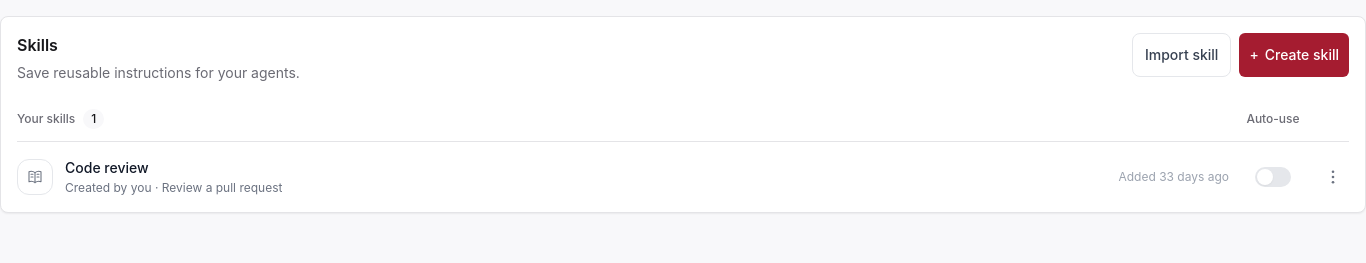
it: uses revision fencing and refreshes a conflicting default without claiming success
Click the switch: point(1273, 177) x1=1255 y1=167 x2=1291 y2=187
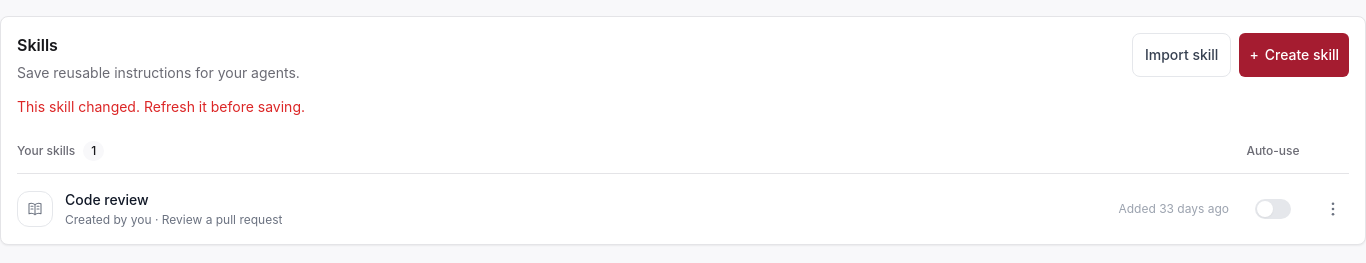
Check: the switch is not checked, box x1=1255 y1=199 x2=1291 y2=219
Check: the message shows "This skill changed", box x1=17 y1=98 x2=305 y2=115
